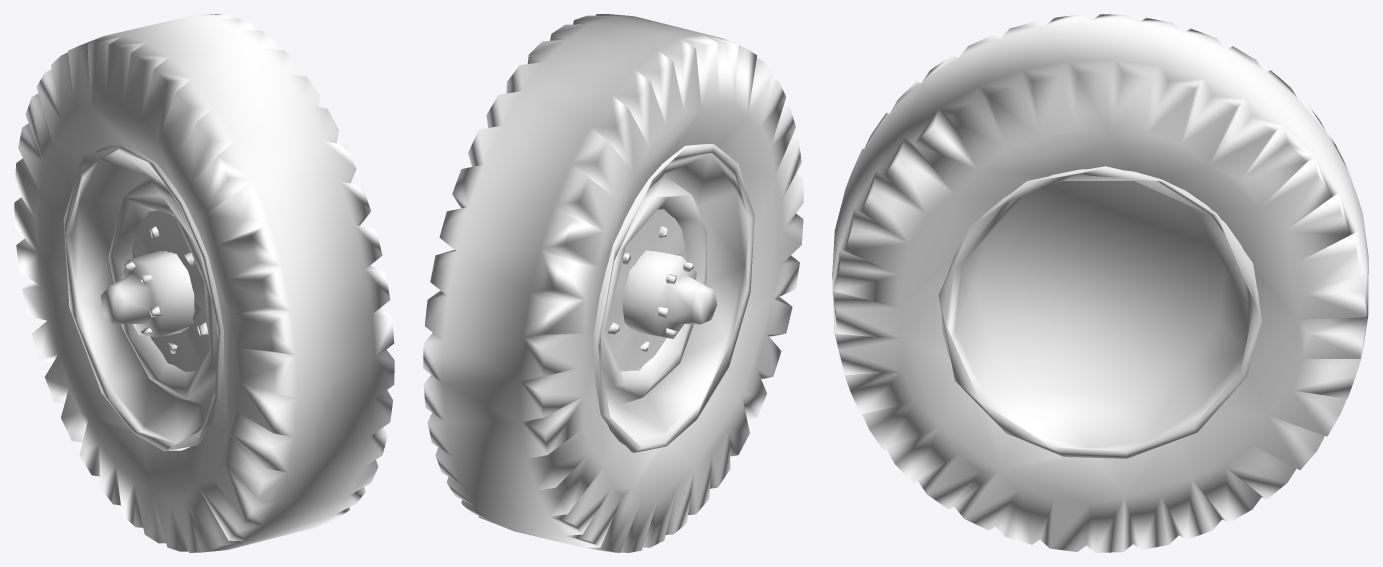
The picture shows the model from 3 angles, left to right: view 1: azimuth 30°, elevation 25°; view 2: azimuth 150°, elevation 25°; view 3: azimuth 270°, elevation 25°; orthographic projection.
Bounding box in the file's own units: 0.2645 × 0.741 × 0.7412.
Materials: 1 (1 with a texture image).
